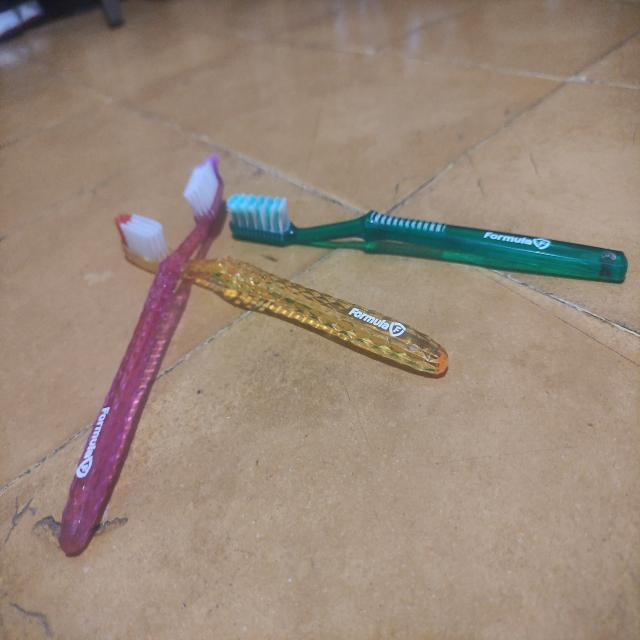toothbrush: (40, 151, 228, 583), (104, 196, 463, 394), (216, 177, 638, 300)
